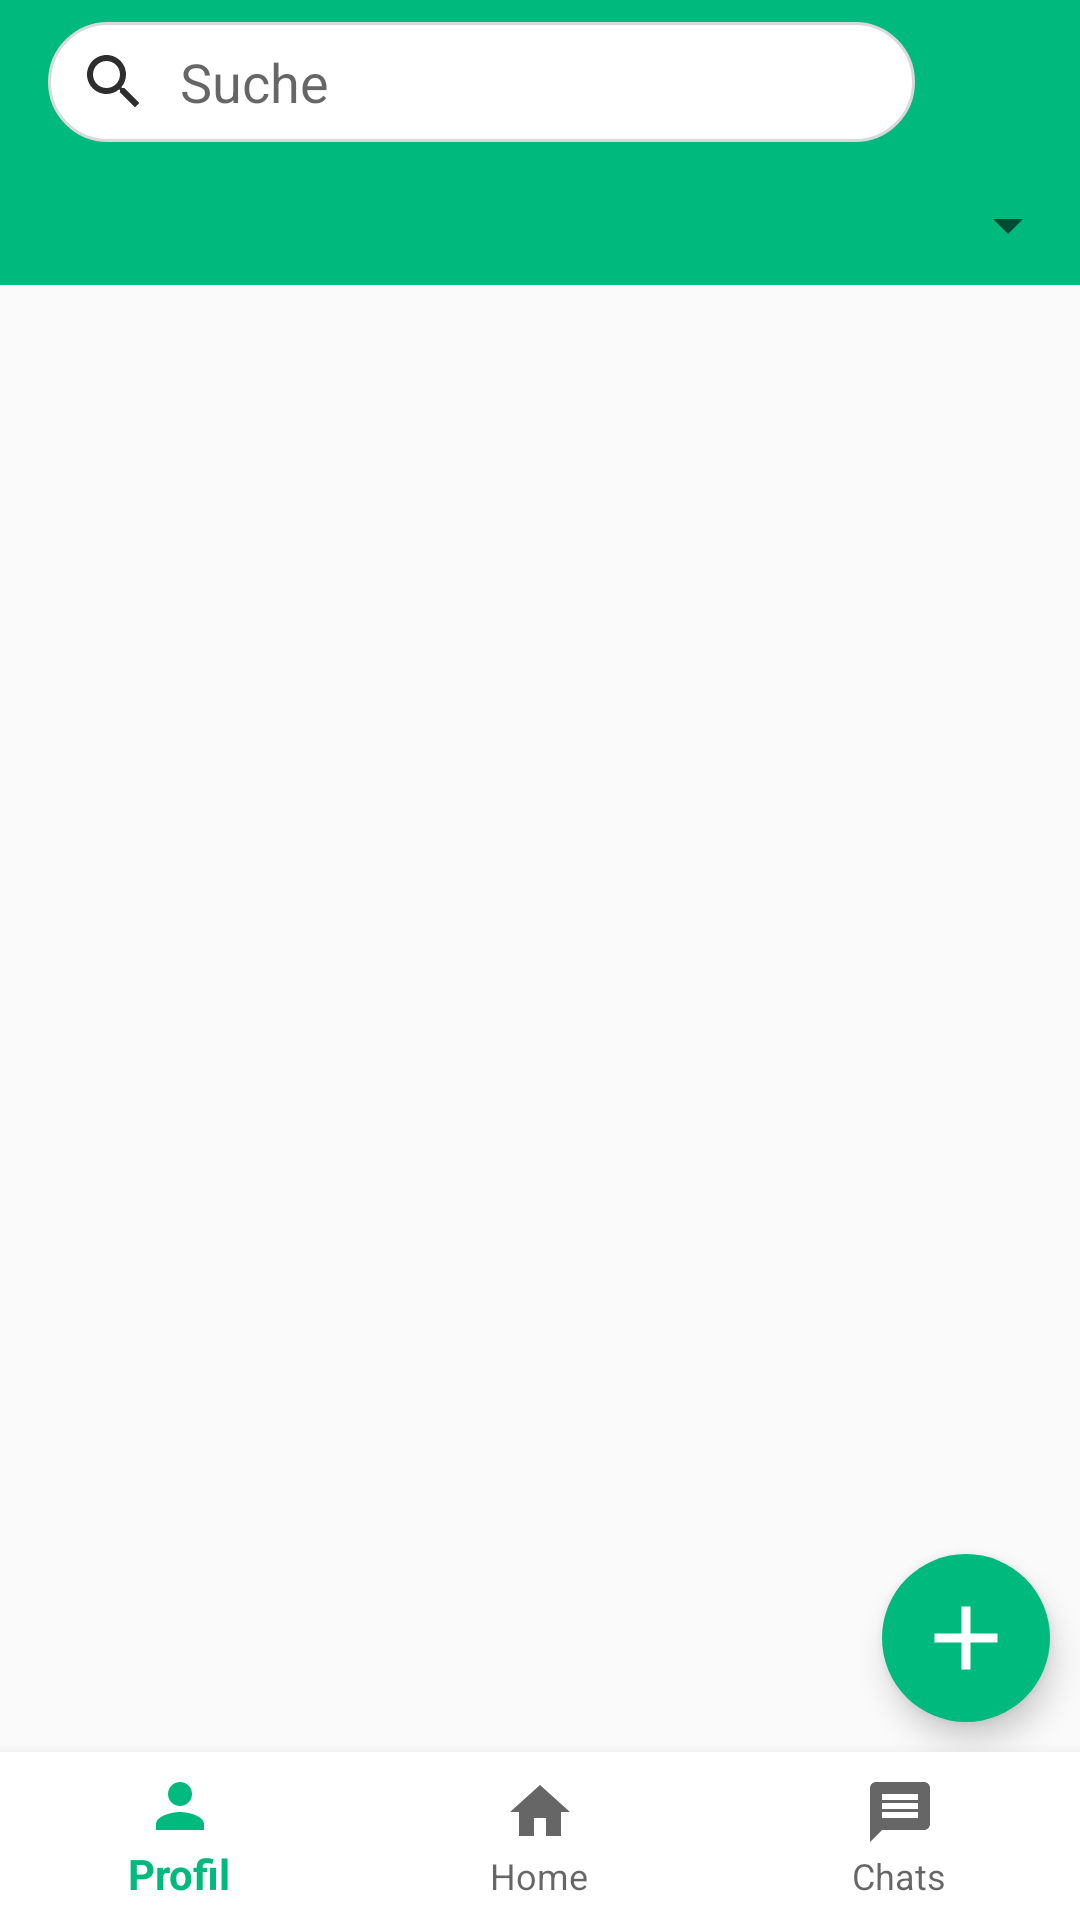

Where to tap for icons on this 1080px x 1920px app screen, as (x,y):
add: (966,1638)
